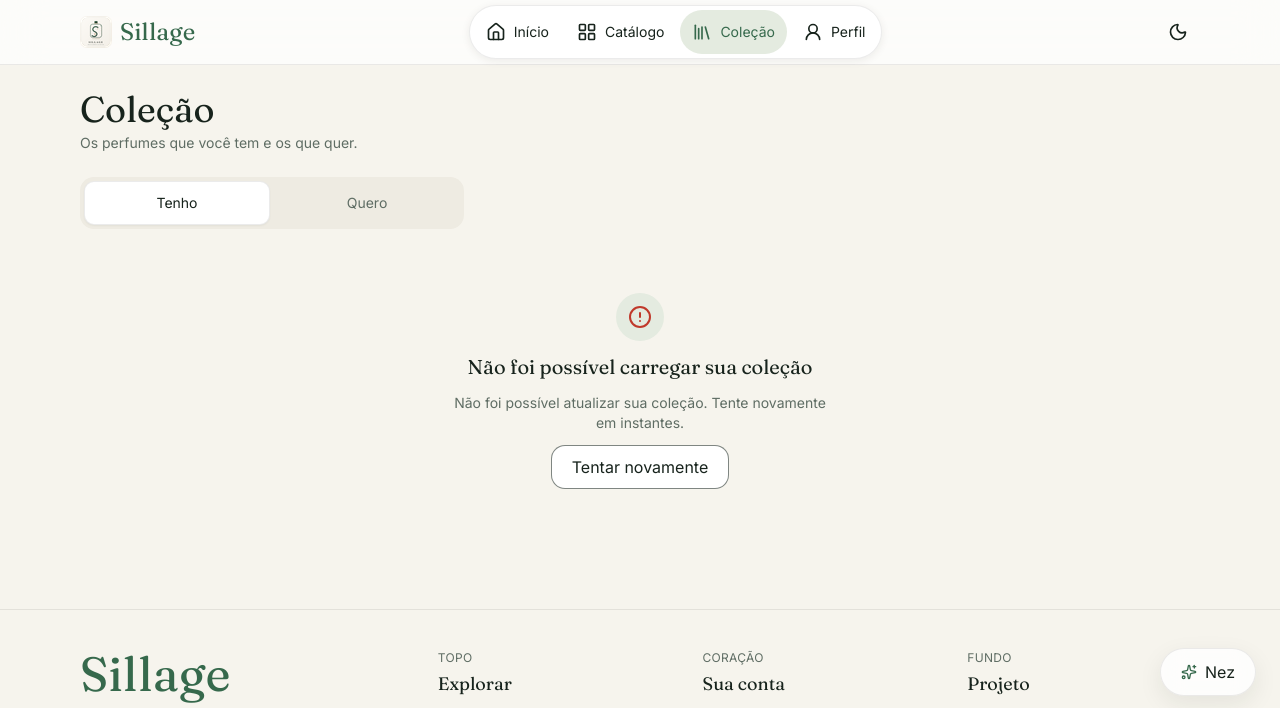
CollectionPage › erro mostra mensagem amigável e tenta de novo pelo botão
Expected: the text "Não foi possível atualizar sua coleção" is shown, left=454, top=394, right=826, bottom=431
Click the button "Tentar novamente" at [640, 467], box left=551, top=445, right=729, bottom=489
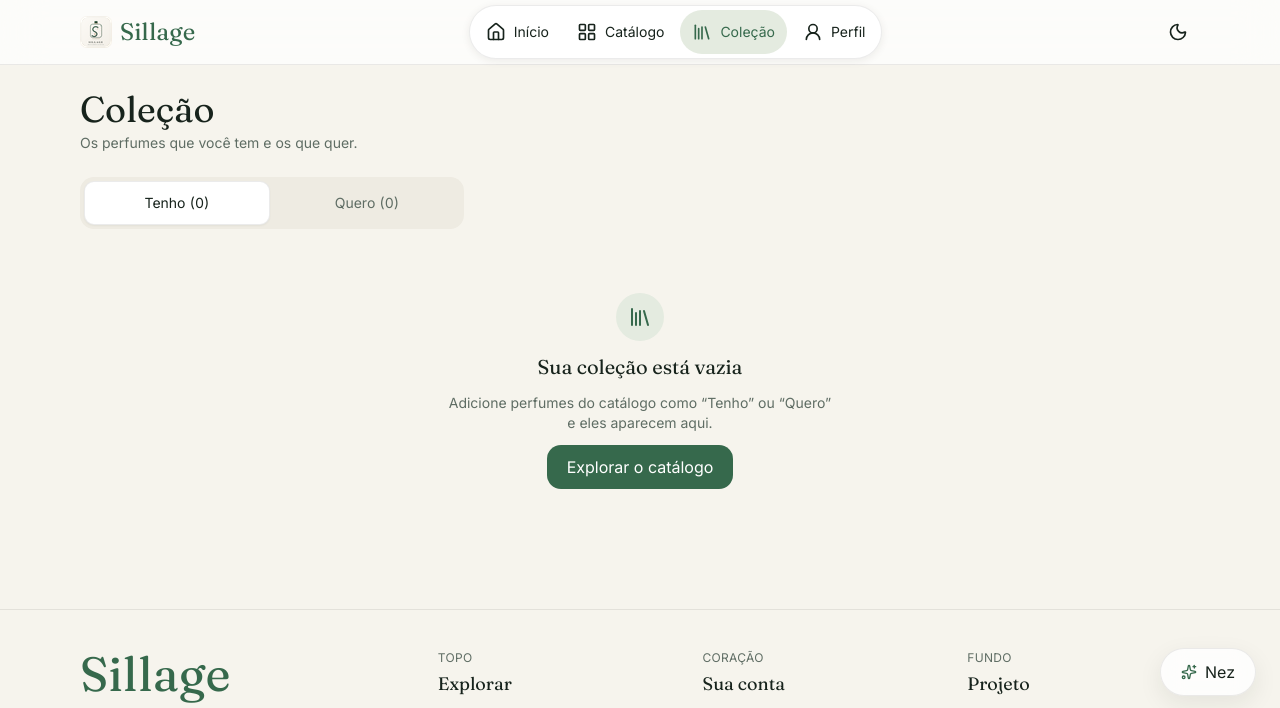
Expected: the heading "Sua coleção está vazia" is shown, left=538, top=353, right=742, bottom=381
